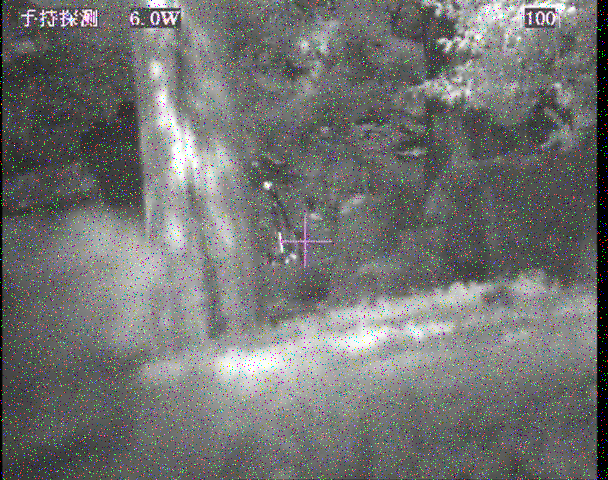my: (262, 181, 273, 190)
